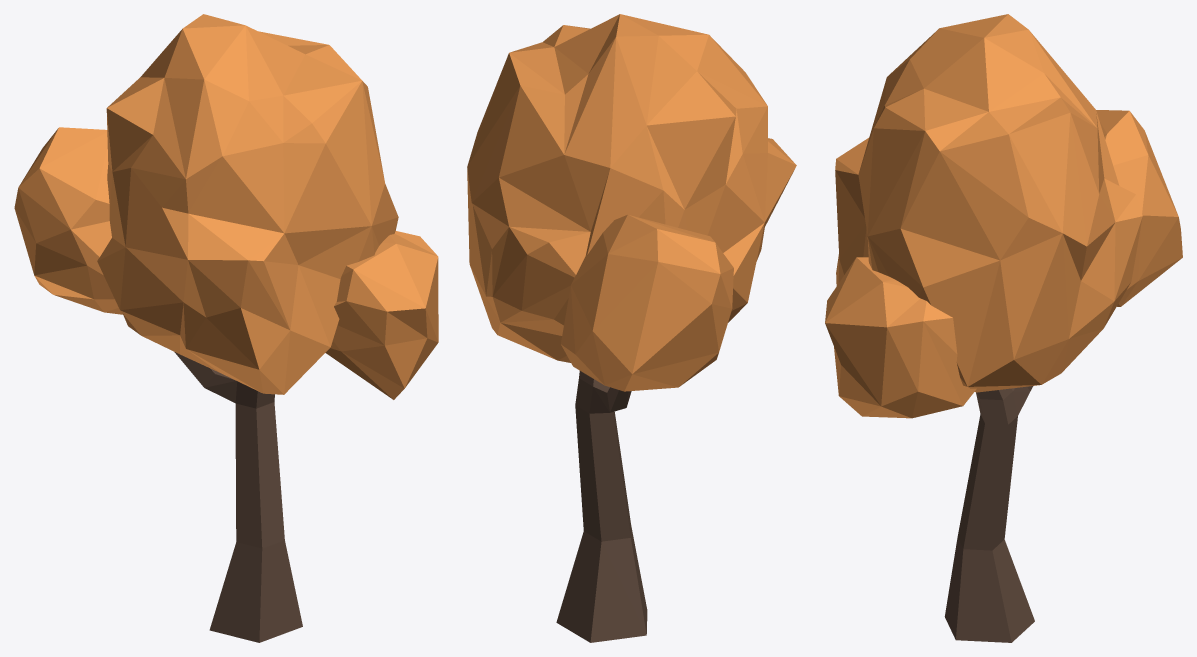
File: huangshu.FBX
3 views of the same model, side by side, from view 1: azimuth 30°, elevation 25°; view 2: azimuth 150°, elevation 25°; view 3: azimuth 270°, elevation 25° (orthographic). The views are drawn at different scales.
Visible parts, largest first — view 1: 对象005; view 2: 对象005; view 3: 对象005.
Boxes of the visible parts, x1,y1,x2,y2 form: 对象005: (14,14,438,642); 对象005: (467,14,796,642); 对象005: (825,14,1182,642).
Bounding box in the file's own units: 27.23 × 50.33 × 28.05.
